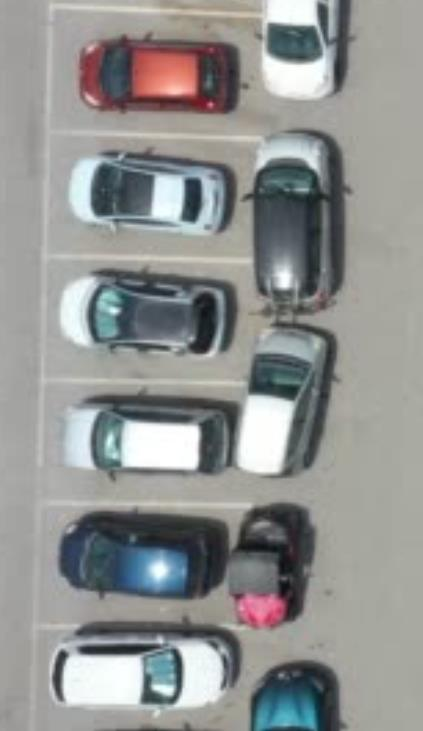car: (247, 131, 337, 312), (56, 270, 230, 360), (47, 631, 234, 713), (232, 326, 331, 476), (69, 152, 229, 241), (59, 517, 215, 600), (77, 37, 240, 116), (61, 402, 228, 479)
